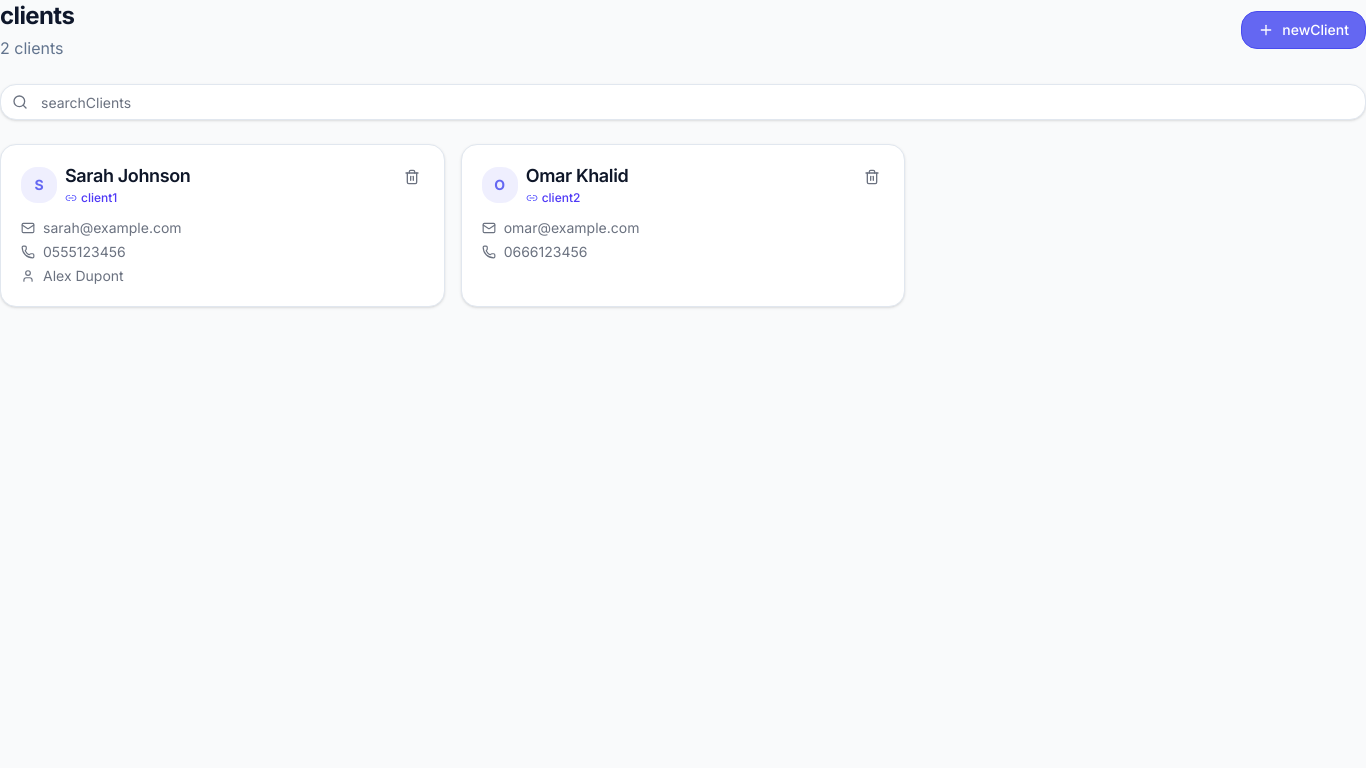
Scenario: Clients page › shows create client dialog on button click
Click the button "newClient".
click(1304, 30)  # box [1241,11,1365,49]
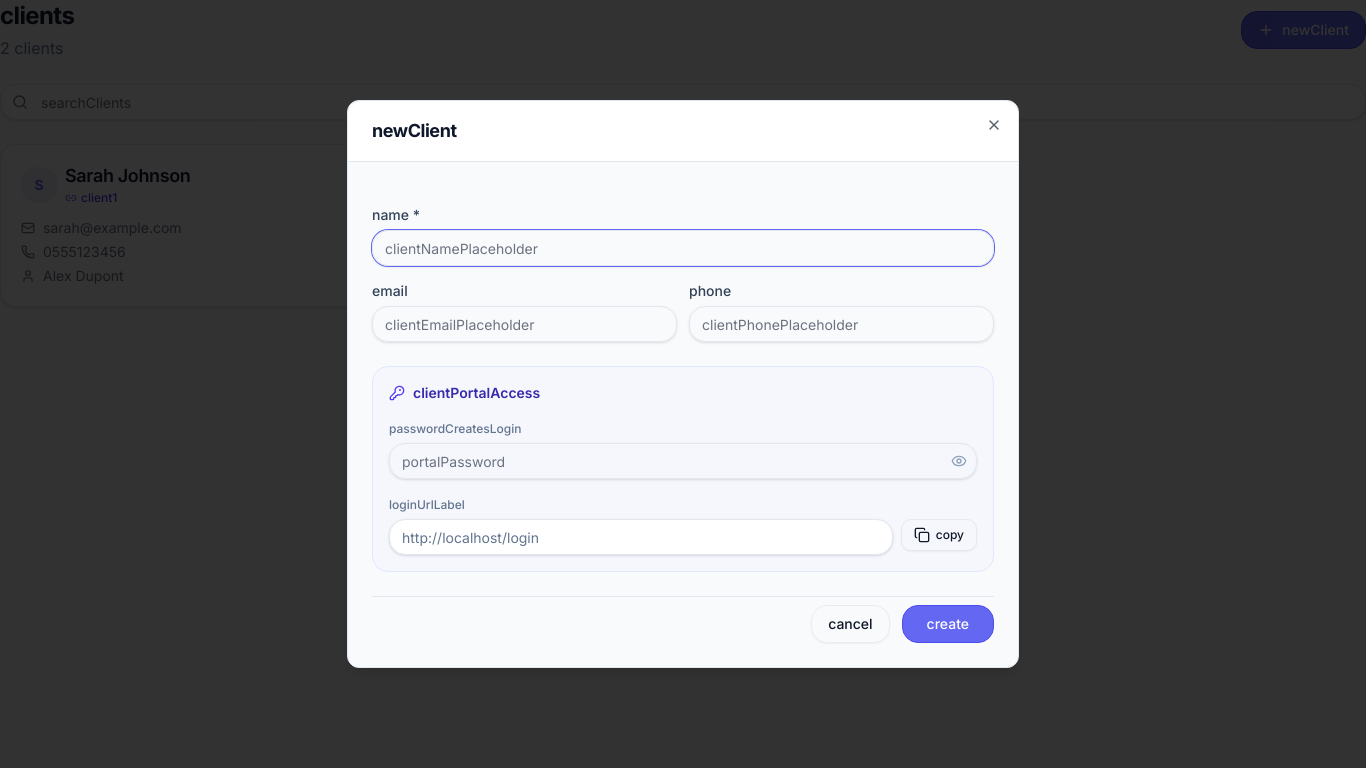
Expected: the button "create" is shown, [902,605,994,643]
